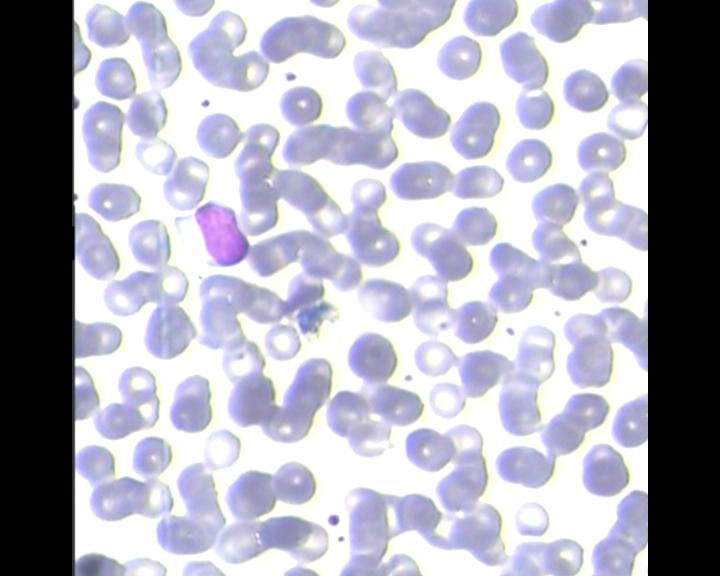lymp: (173, 200, 251, 269)
